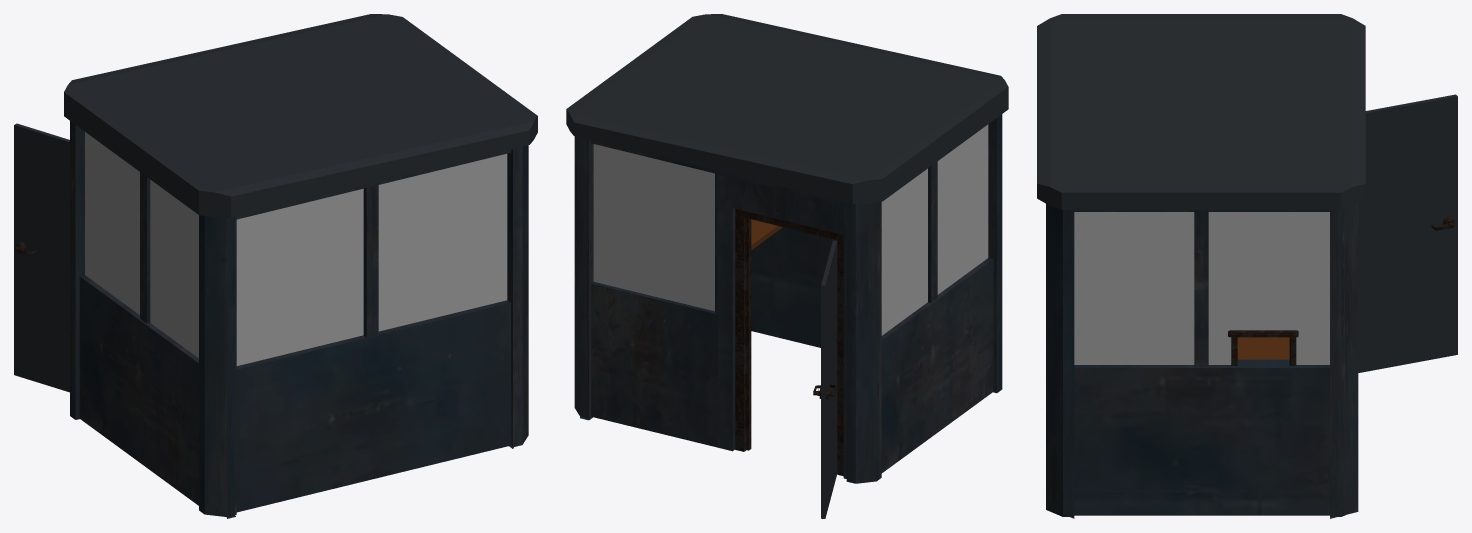
Rendered from security-booth.zfix-v1.lod0.glb.
3 views of the same model, side by side, from view 1: azimuth 30°, elevation 25°; view 2: azimuth 150°, elevation 25°; view 3: azimuth 270°, elevation 25° (orthographic). The views are drawn at different scales.
Visible parts, largest first — view 1: Object_5, Object_8; view 2: Object_5, Object_8, Object_4; view 3: Object_5, Object_8, Object_4.
Boxes of the visible parts, left/top/right/bottom form: Object_5: left=14, top=14, right=537, bottom=392; Object_8: left=70, top=121, right=528, bottom=518; Object_5: left=566, top=14, right=1008, bottom=518; Object_8: left=574, top=114, right=1002, bottom=483; Object_4: left=735, top=209, right=843, bottom=476; Object_5: left=1037, top=14, right=1457, bottom=372; Object_8: left=1046, top=203, right=1358, bottom=518; Object_4: left=1228, top=216, right=1454, bottom=365.
Bounding box in the file's own units: 2.88 × 2.67 × 3.
Materials: 3 (2 with a texture image).
